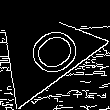O_SW: (6, 18, 78, 83)
